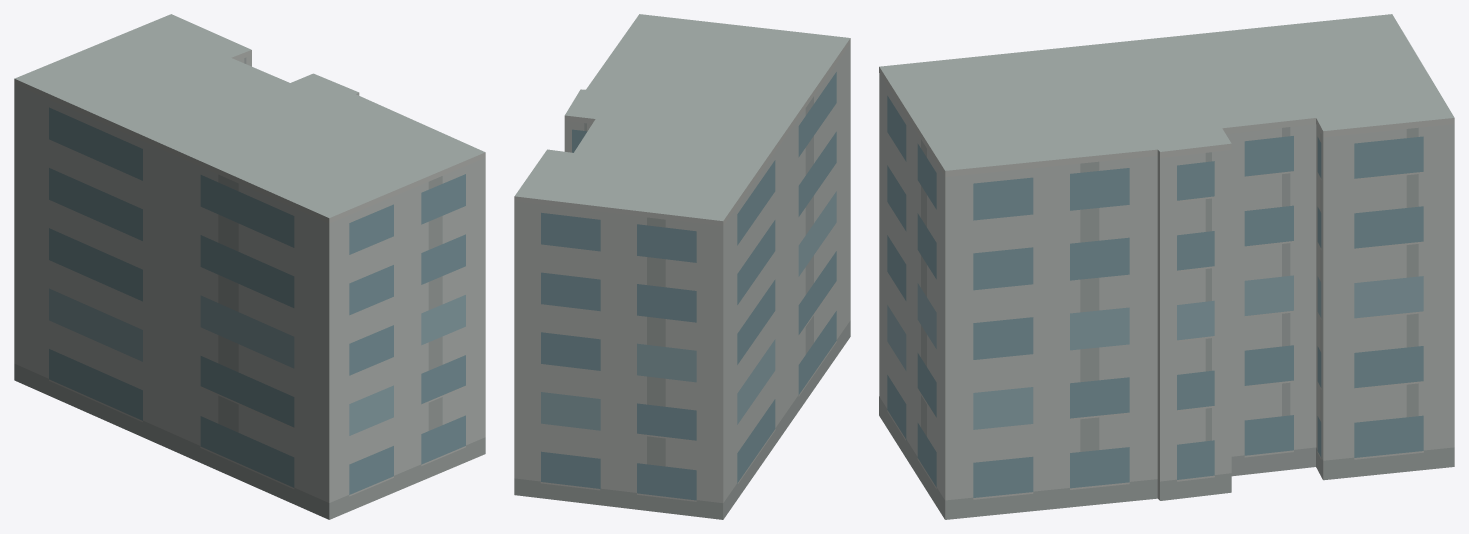
File: survey-upis-32654538.glb
3 views of the same model, side by side, from view 1: azimuth 30°, elevation 25°; view 2: azimuth 150°, elevation 25°; view 3: azimuth 270°, elevation 25° (orthographic). The views are drawn at different scales.
Parts seen in each view (by area): view 1: survey-upis-32654538.tmp; view 2: survey-upis-32654538.tmp; view 3: survey-upis-32654538.tmp.
Boxes of the visible parts, x1=… form: survey-upis-32654538.tmp: x1=14, y1=14, x2=485, y2=519; survey-upis-32654538.tmp: x1=514, y1=14, x2=850, y2=519; survey-upis-32654538.tmp: x1=879, y1=14, x2=1454, y2=519.
Bounding box in the file's own units: 13.12 × 13.6 × 20.33.
